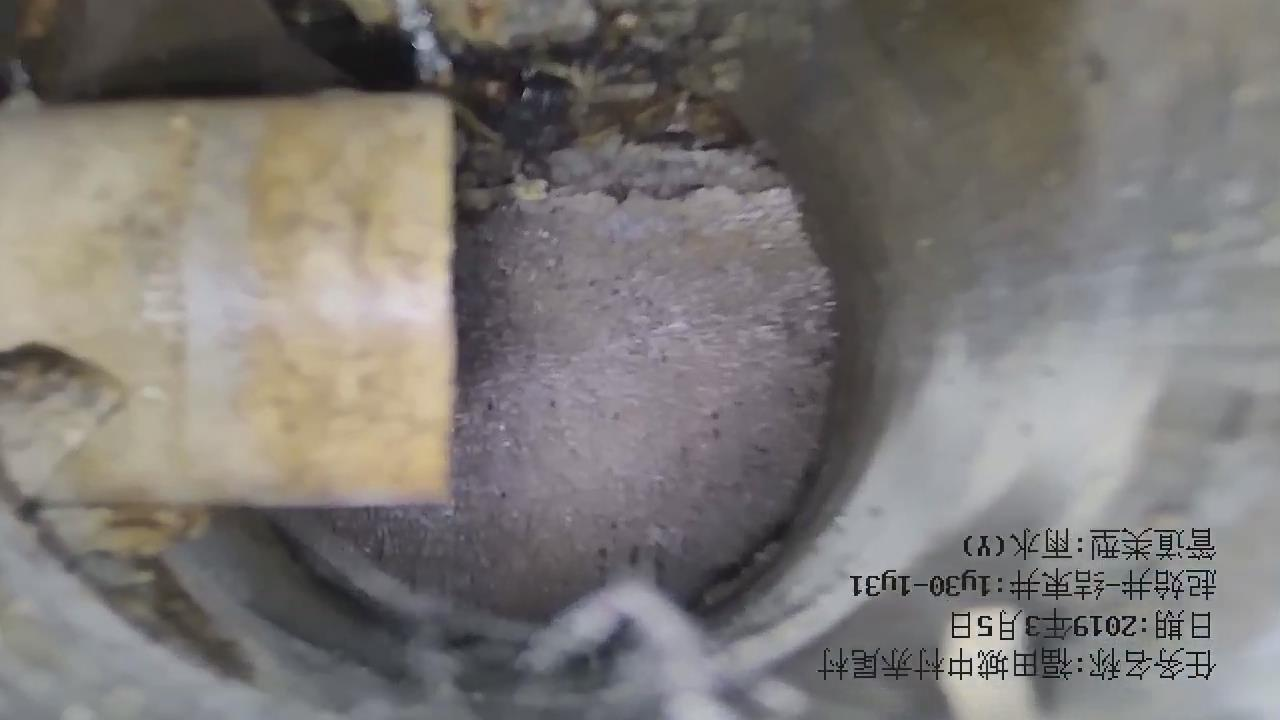CJ: (271, 1, 812, 198)
ZGAJ: (1, 92, 456, 508)
